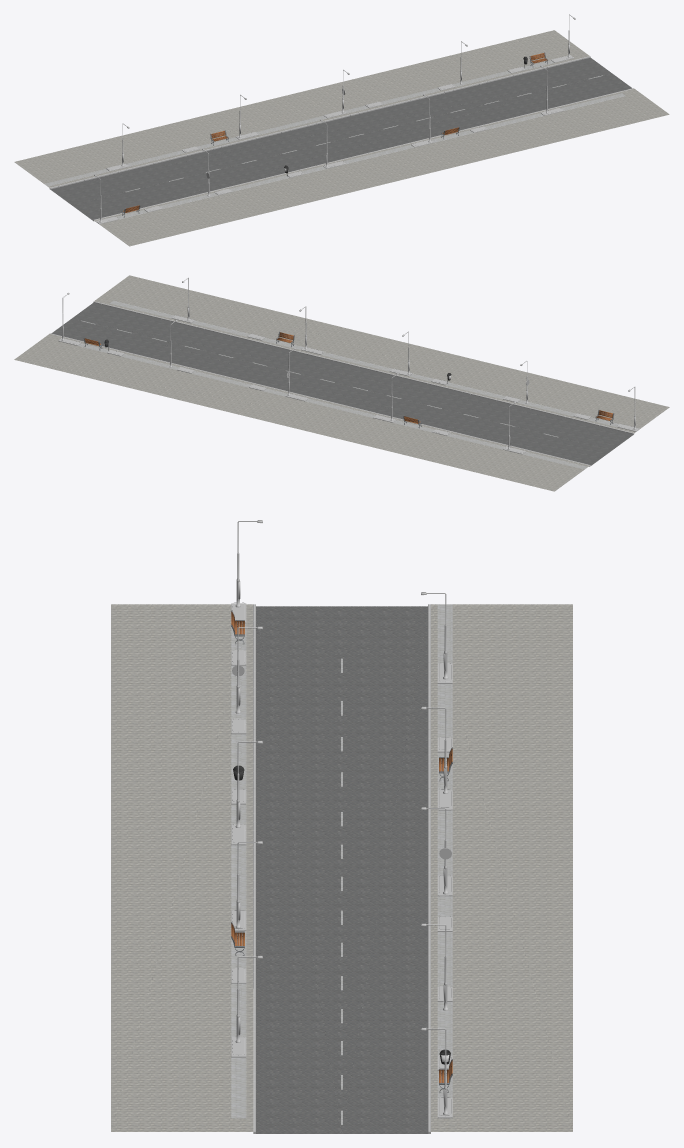
Rendered from Road.fbx.
The picture shows the model from 3 angles, top to bottom: view 1: azimuth 30°, elevation 25°; view 2: azimuth 150°, elevation 25°; view 3: azimuth 270°, elevation 25°; orthographic projection. The views are drawn at different scales.
Parts seen in each view (by area): view 1: Plane.002, Cube.011; view 2: Plane.002, Cube.011; view 3: Plane.002, Cube.011.
Boxes of the visible parts, left/top/right/bottom form: Plane.002: left=14, top=30, right=669, bottom=246; Cube.011: left=44, top=14, right=625, bottom=224; Plane.002: left=14, top=275, right=669, bottom=491; Cube.011: left=58, top=277, right=639, bottom=469; Plane.002: left=111, top=604, right=572, bottom=1133; Cube.011: left=231, top=520, right=452, bottom=1118.
Bounding box in the file's own units: 110 × 8.66 × 40.79.
